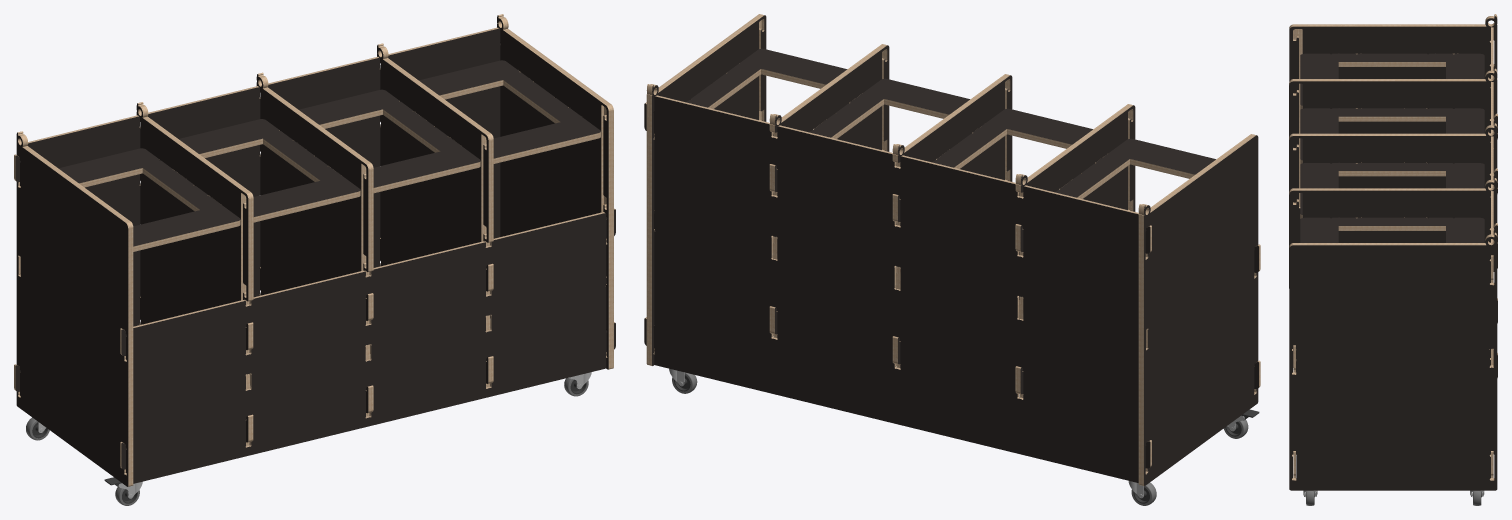
The model's file is Container-B4-Karkass_v2.glb.
3 views of the same model, side by side, from view 1: azimuth 30°, elevation 25°; view 2: azimuth 150°, elevation 25°; view 3: azimuth 270°, elevation 25° (orthographic). The views are drawn at different scales.
Parts seen in each view (by area): view 1: Shape003, Shape017 (×2), Shape021 (×3), Shape012 (×4), Shape002; view 2: Shape002, Shape017 (×2), Shape021 (×3), Shape012 (×4); view 3: Shape017 (×2), Shape021 (×3), Shape012 (×4), Shape002.
Part boxes in pixels (box(x1,y1,x2,y2)): Shape003: box(120, 208, 615, 483); Shape017 (×2): box(16, 14, 613, 486); Shape021 (×3): box(136, 43, 493, 445); Shape012 (×4): box(58, 60, 600, 251); Shape002: box(14, 27, 500, 391); Shape002: box(644, 95, 1151, 482); Shape017 (×2): box(646, 14, 1258, 486); Shape021 (×3): box(769, 44, 1135, 397); Shape012 (×4): box(686, 48, 1215, 198); Shape017 (×2): box(1289, 14, 1497, 490); Shape021 (×3): box(1289, 68, 1497, 377); Shape012 (×4): box(1300, 53, 1484, 242); Shape002: box(1491, 27, 1493, 478).
Bounding box in the file's own units: 1.15 × 0.6661 × 0.4471.
5 materials, 1 textured.
